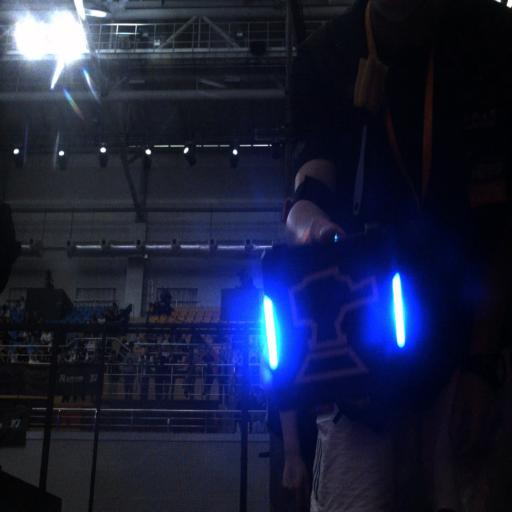target: (260, 242, 410, 398)
